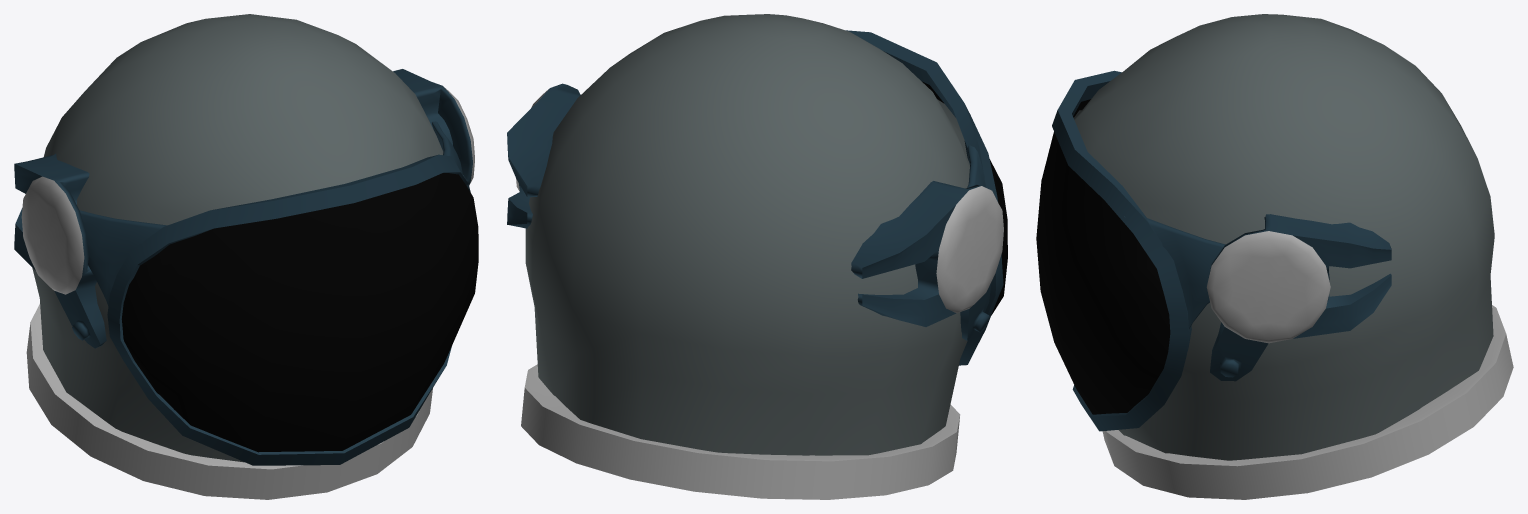
File: HelmetClosed.fbx
3 renders of one model, left to right at view 1: azimuth 30°, elevation 25°; view 2: azimuth 150°, elevation 25°; view 3: azimuth 270°, elevation 25°, orthographic. The views are drawn at different scales.
Visible parts, largest first — view 1: polySurface8, MainHelmet, CollarTop, polySurface9, polySurface27, polySurface23, polySurface25, polySurface24; view 2: MainHelmet, CollarTop, polySurface23, polySurface27, polySurface24, polySurface9, polySurface8, polySurface25; view 3: MainHelmet, polySurface8, CollarTop, polySurface28, polySurface9, polySurface24, polySurface26.
Boxes of the visible parts, x1,y1,x2,y2 form: polySurface8: (121,173,478,452); MainHelmet: (32,14,443,462); CollarTop: (26,304,432,499); polySurface9: (107,154,470,465); polySurface27: (21,176,84,294); polySurface23: (14,153,106,348); polySurface25: (79,210,167,305); polySurface24: (393,69,472,184); MainHelmet: (525,14,969,455); CollarTop: (521,364,960,499); polySurface23: (851,181,991,340); polySurface27: (936,186,1003,313); polySurface24: (507,83,580,228); polySurface9: (846,30,1003,365); polySurface8: (922,81,1007,315); polySurface25: (964,141,985,187); MainHelmet: (1073,14,1494,460); polySurface8: (1036,99,1170,414); CollarTop: (1102,305,1513,499); polySurface28: (1206,231,1330,343); polySurface9: (1052,70,1191,431); polySurface24: (1206,214,1391,381); polySurface26: (1124,216,1225,328).
Bounding box in the file's own units: 1.78 × 1.68 × 1.79.
